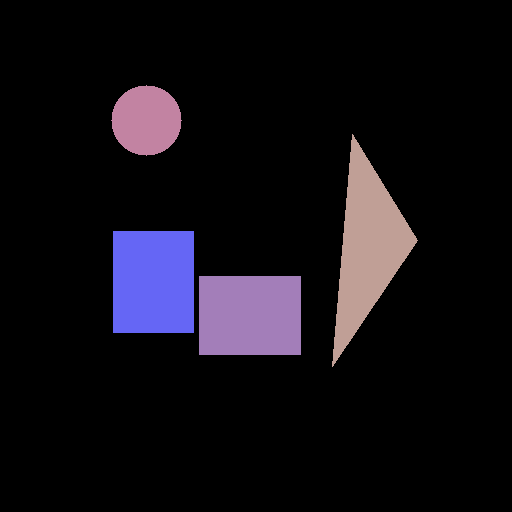circle: (111, 85, 181, 155)
rectangle: (113, 231, 193, 332), (199, 276, 300, 354)
triangle: (332, 134, 417, 366)
